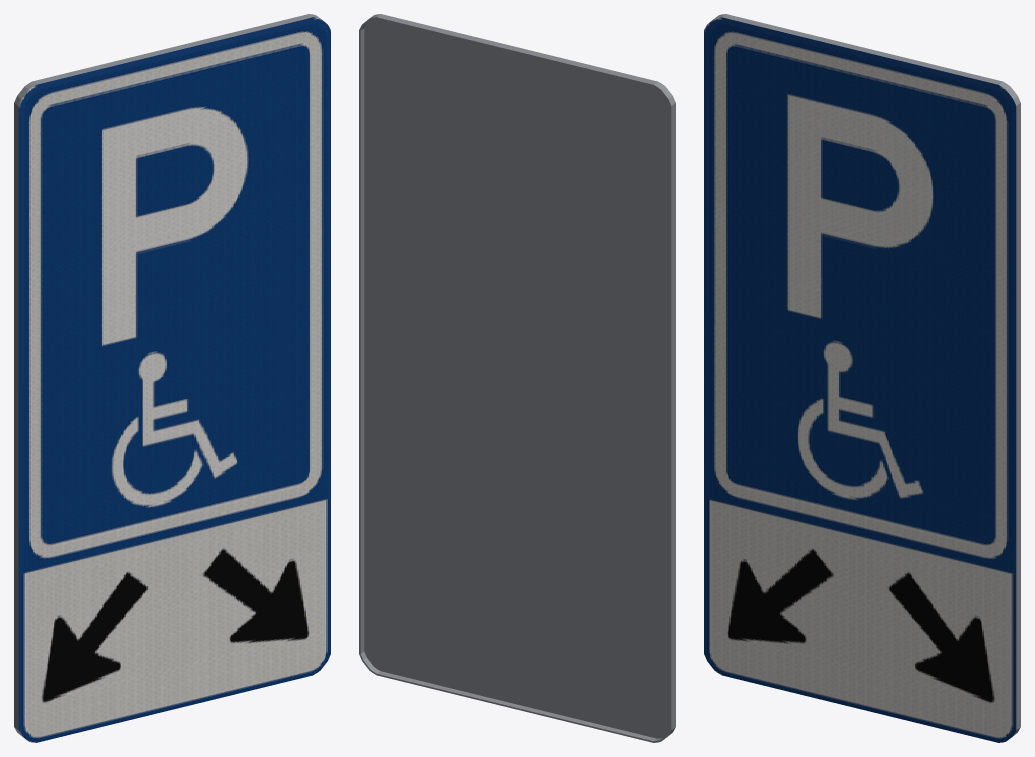
3 views of the same model, side by side, from view 1: azimuth 30°, elevation 25°; view 2: azimuth 150°, elevation 25°; view 3: azimuth 330°, elevation 25° (orthographic).
Parts seen in each view (by area): view 1: cat_f238910e1484ac2c; view 2: cat_f238910e1484ac2c; view 3: cat_f238910e1484ac2c.
Boxes of the visible parts, x1=… form: cat_f238910e1484ac2c: x1=14, y1=14, x2=330, y2=742; cat_f238910e1484ac2c: x1=359, y1=14, x2=675, y2=742; cat_f238910e1484ac2c: x1=704, y1=14, x2=1020, y2=742.
Size of the model in its own units: 0.6 by 0.015 by 1.21.
Materials: 2 (1 with a texture image).
